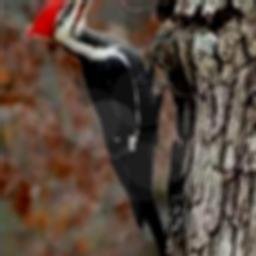Woodpecker: (25, 0, 168, 256)
